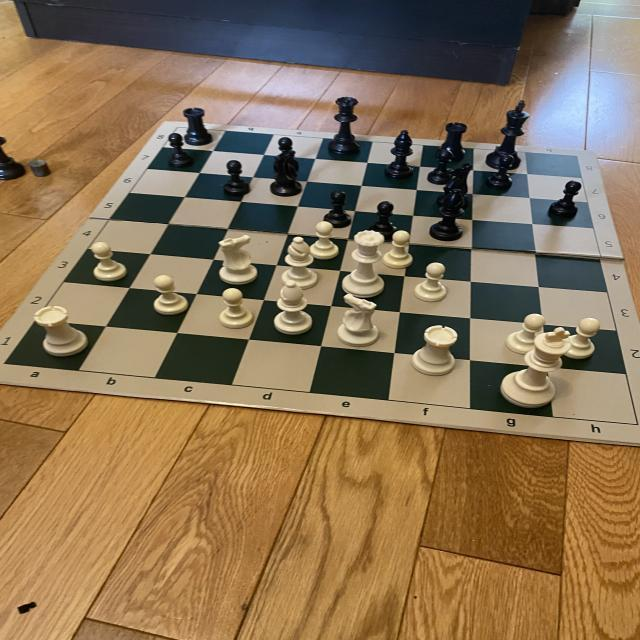chess-table-corners: (1, 355, 15, 370), (567, 152, 587, 160), (627, 417, 640, 429), (172, 125, 187, 132)
